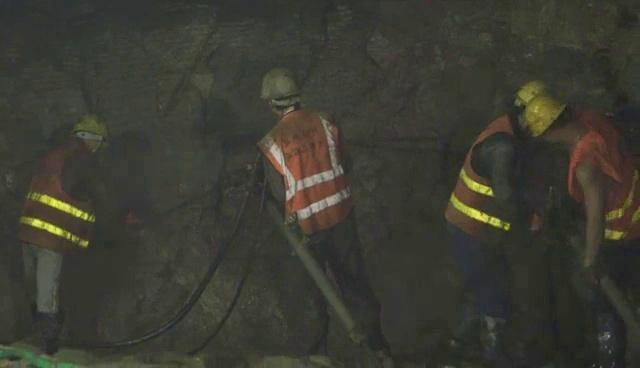helmet: (523, 94, 570, 146), (260, 67, 302, 117), (511, 78, 551, 130), (70, 112, 112, 156)
